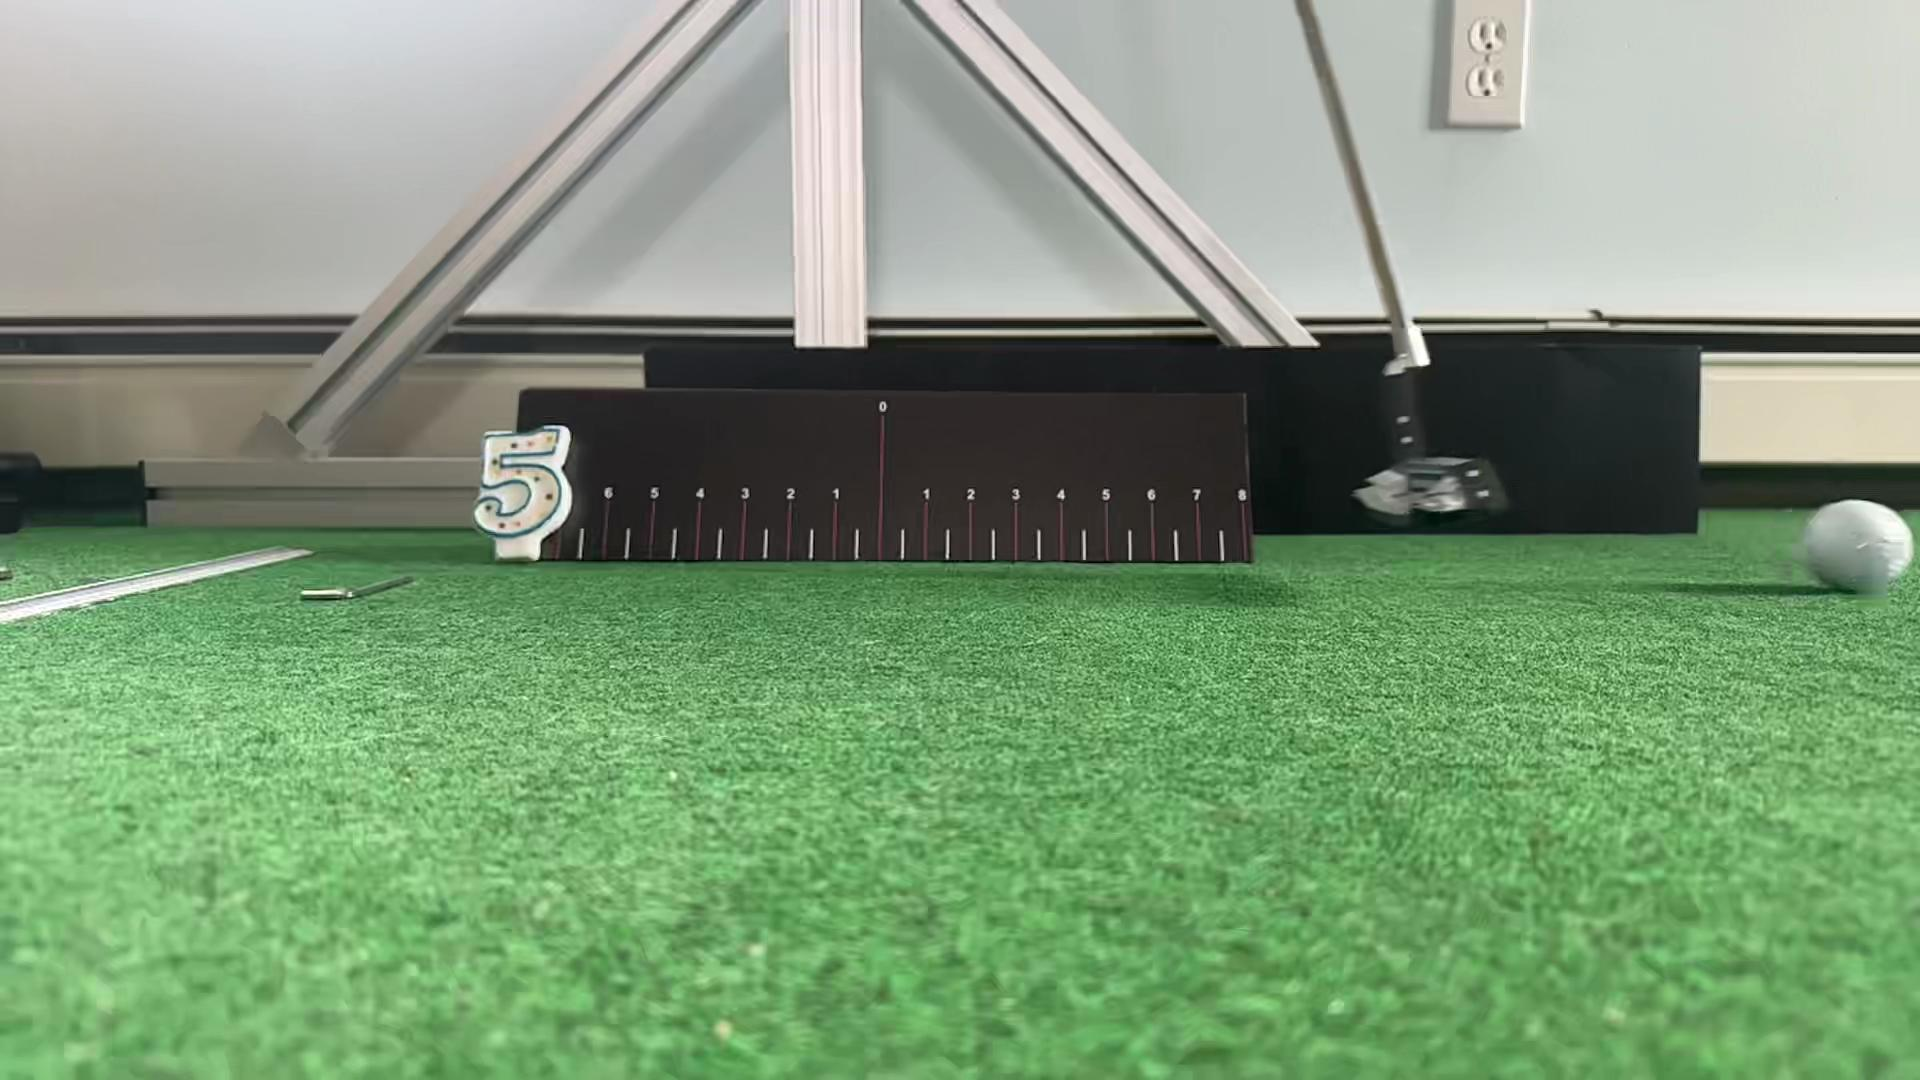golfball: (1799, 500, 1913, 594)
